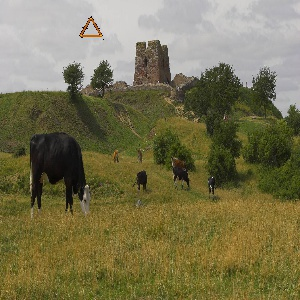triangle: (76, 14, 105, 39)
